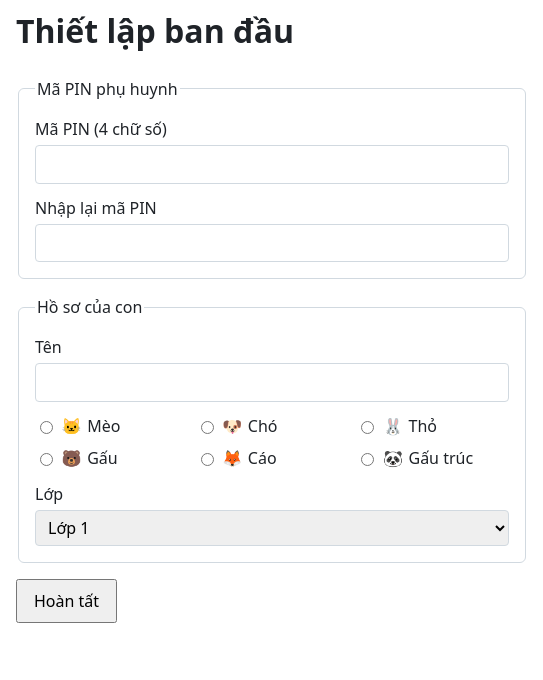
Scenario: Setup › shows the mismatch message and sends nothing when the PINs differ
Type "1234" into the password field labelled "Mã PIN (4 chữ số)". click: (272, 164)
box: 35,145 -> 509,184
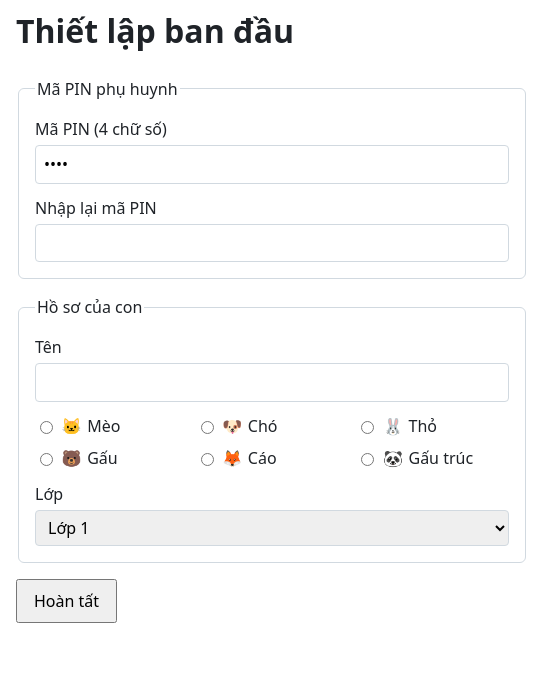
Type "4321" into the password field labelled "Nhập lại mã PIN". click: (272, 243)
box: 35,224 -> 509,262
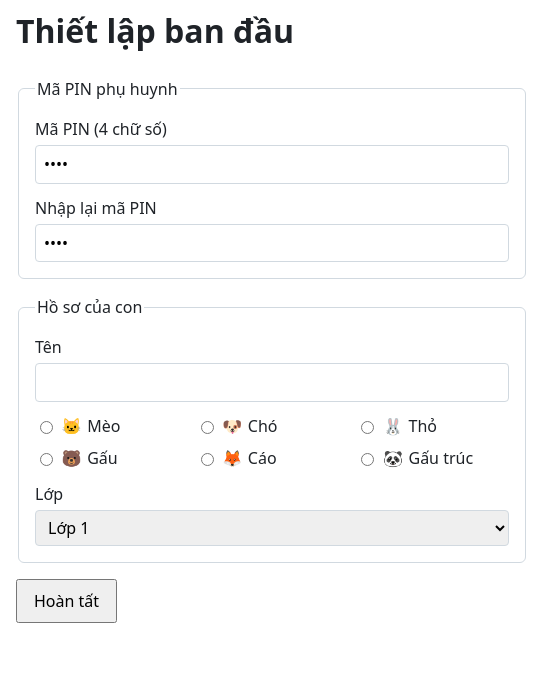
Type "Bin" into the field labelled "Tên". click: (272, 383)
box: 35,363 -> 509,402
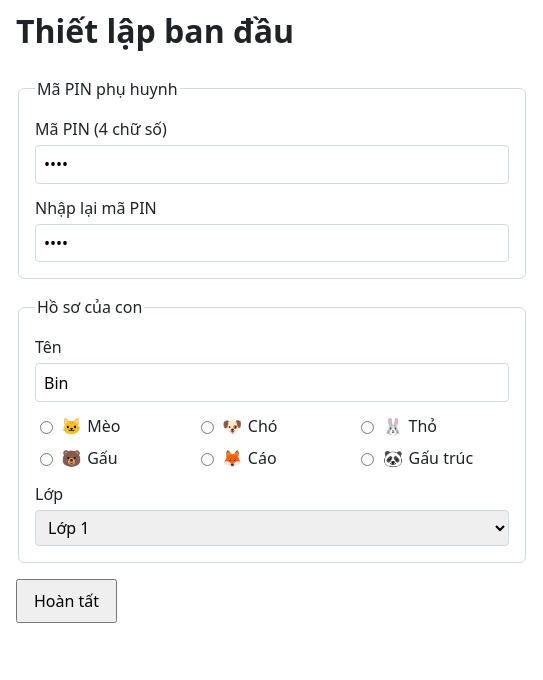
Click the radio button labelled "🐱 Mèo". click: click(46, 428)
box: 40,421 -> 53,434
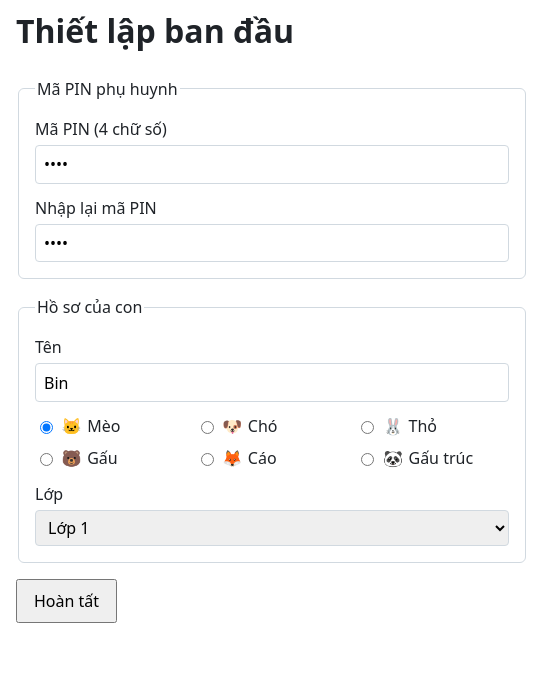
Select "Lớp 2" in the dropdown labelled "Lớp". click: (272, 528)
box: 35,510 -> 509,546
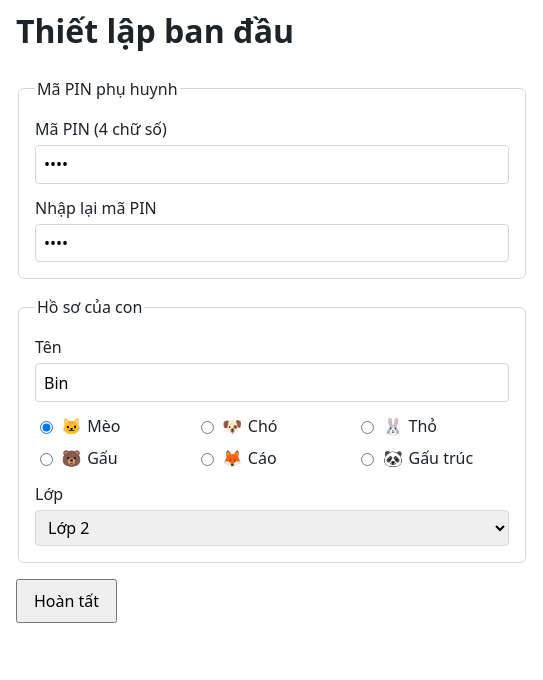
Click the button "Hoàn tất". click: click(67, 601)
box: 16,579 -> 117,623
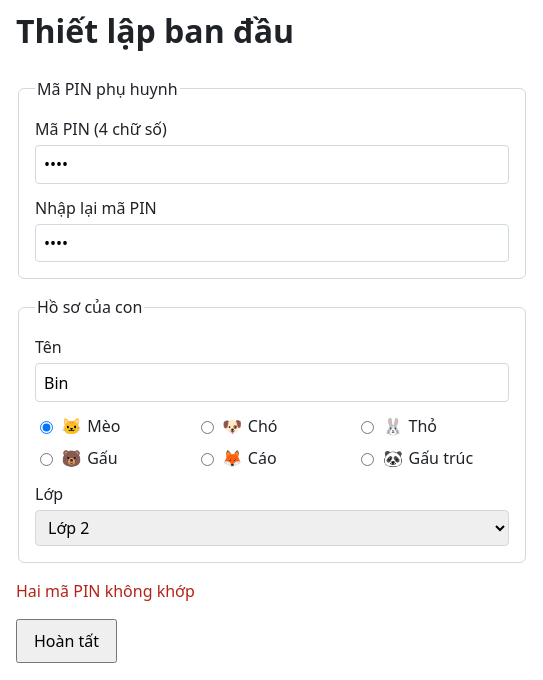
expect the message reads "Hai mã PIN không khớp": met, box 16,580 -> 195,602
